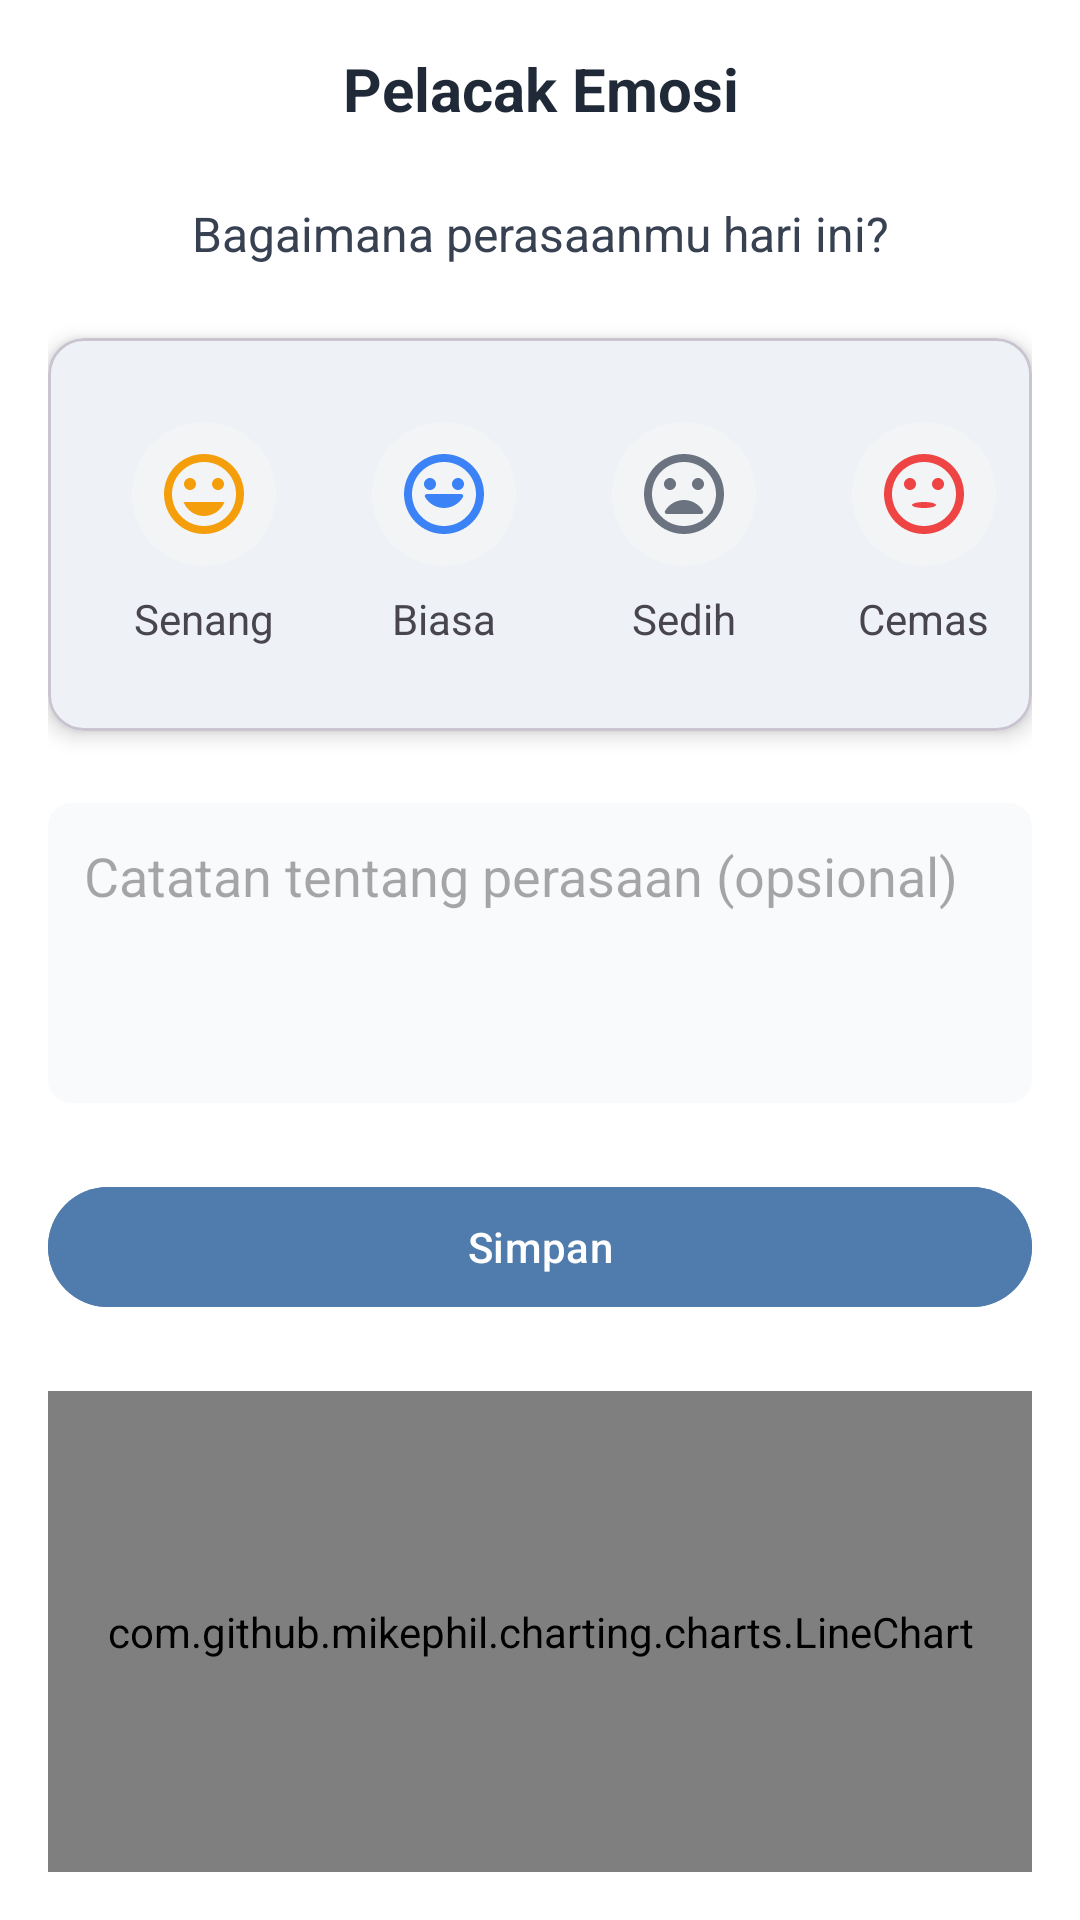

Where to tap for icons on this 1080*1920 app screen, as (x,y):
emotion happy: (204,494)
emotion sad: (684,494)
